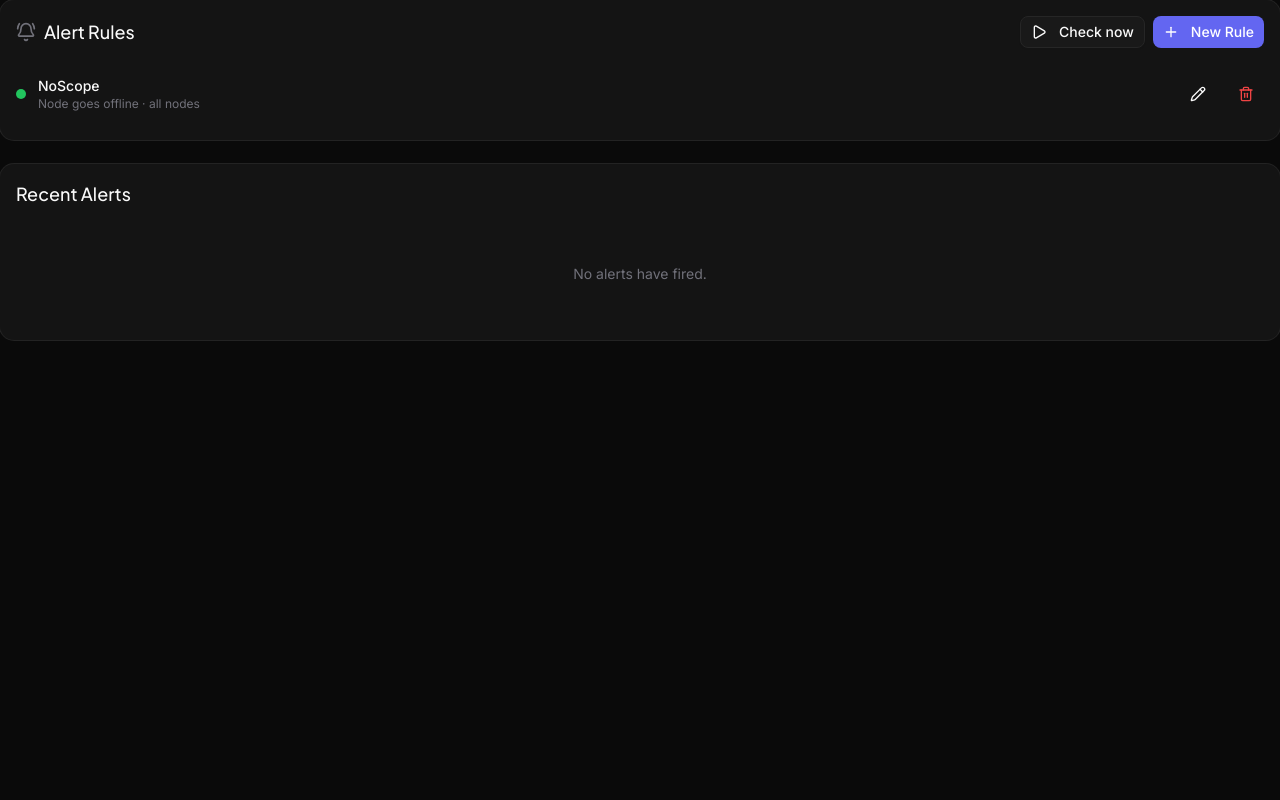
AlertsManager — edit, toggle, delete › prefills blank scope and webhook for an all-nodes offline rule
Expected: the text "NoScope" is shown, [38,77,100,94]
Click the 1st button "Edit" at (1198, 94), box [1180,78,1216,110]
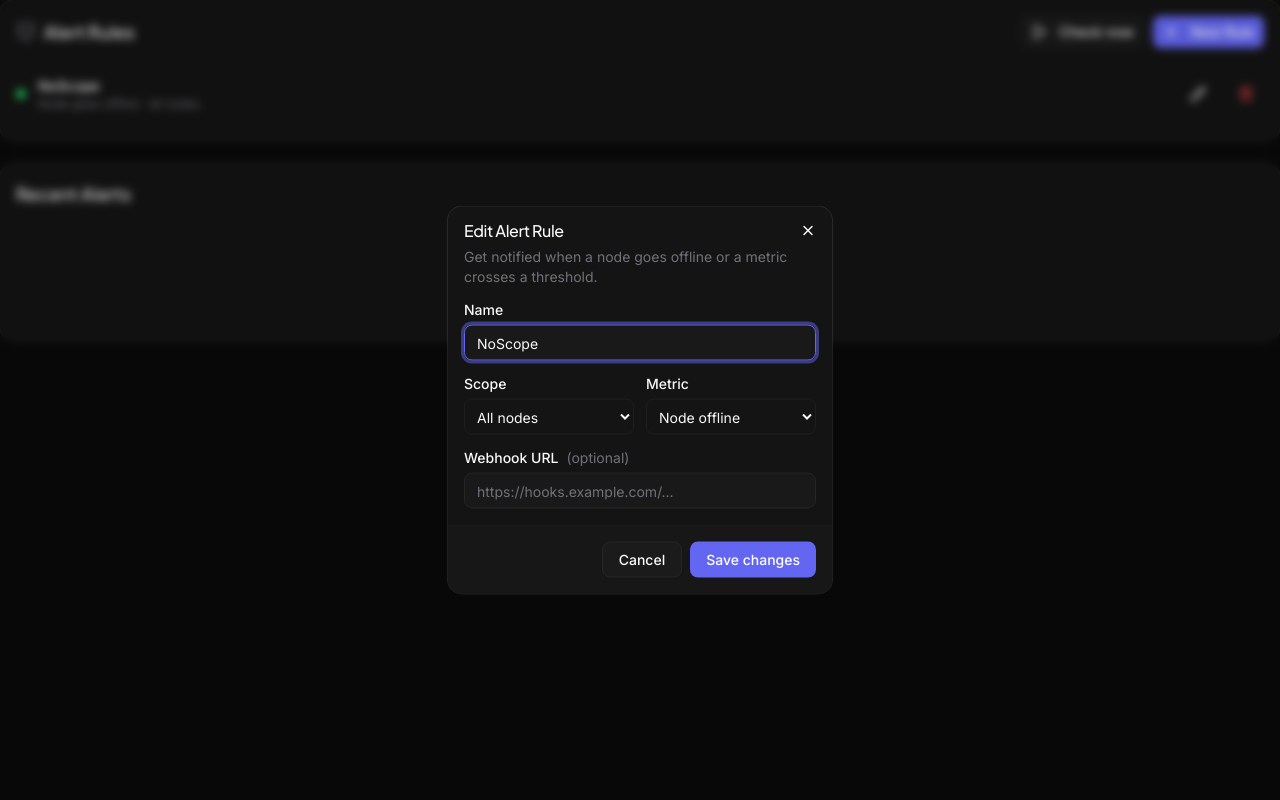
Now the dropdown labelled "Scope" shows "All nodes", box [464,398,634,434]
Now the field labelled "Webhook URL (optional)" is empty, box [464,472,816,508]
